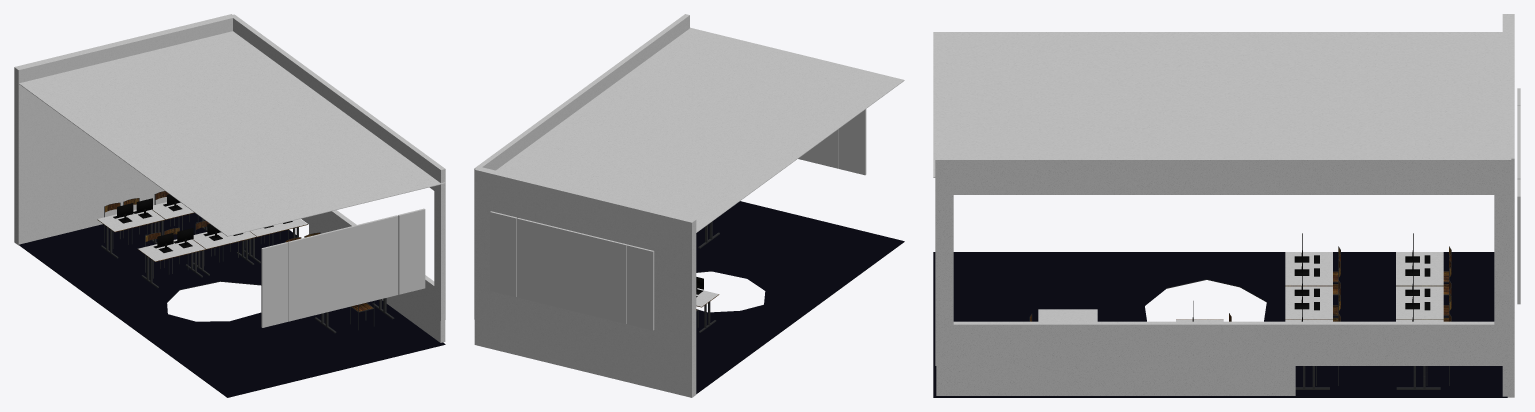
The model's file is salle_classe_haut05.obj.
3 renders of one model, left to right at view 1: azimuth 30°, elevation 25°; view 2: azimuth 150°, elevation 25°; view 3: azimuth 270°, elevation 25°, orthographic. The views are drawn at different scales.
Visible parts, largest first — view 1: plafond_classe.019; view 2: plafond_classe.019; view 3: plafond_classe.019.
Boxes of the visible parts, <box> form: plafond_classe.019: <box>14,14,445,397</box>; plafond_classe.019: <box>474,14,904,397</box>; plafond_classe.019: <box>933,14,1520,397</box>.
Size of the model in its own units: 14.52 by 11.1 by 24.71.
6 materials, 3 textured.
